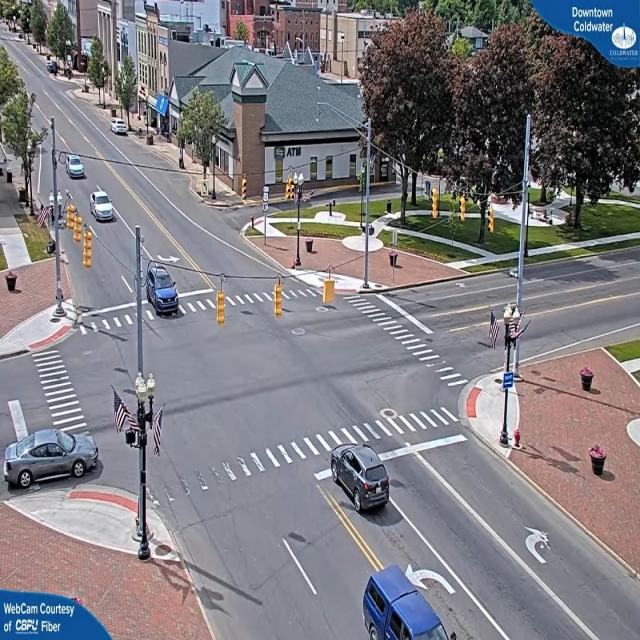car: (364, 564, 434, 640), (11, 428, 92, 489), (333, 446, 393, 515), (144, 263, 180, 316), (90, 190, 115, 222), (64, 154, 86, 180), (112, 119, 129, 136)
